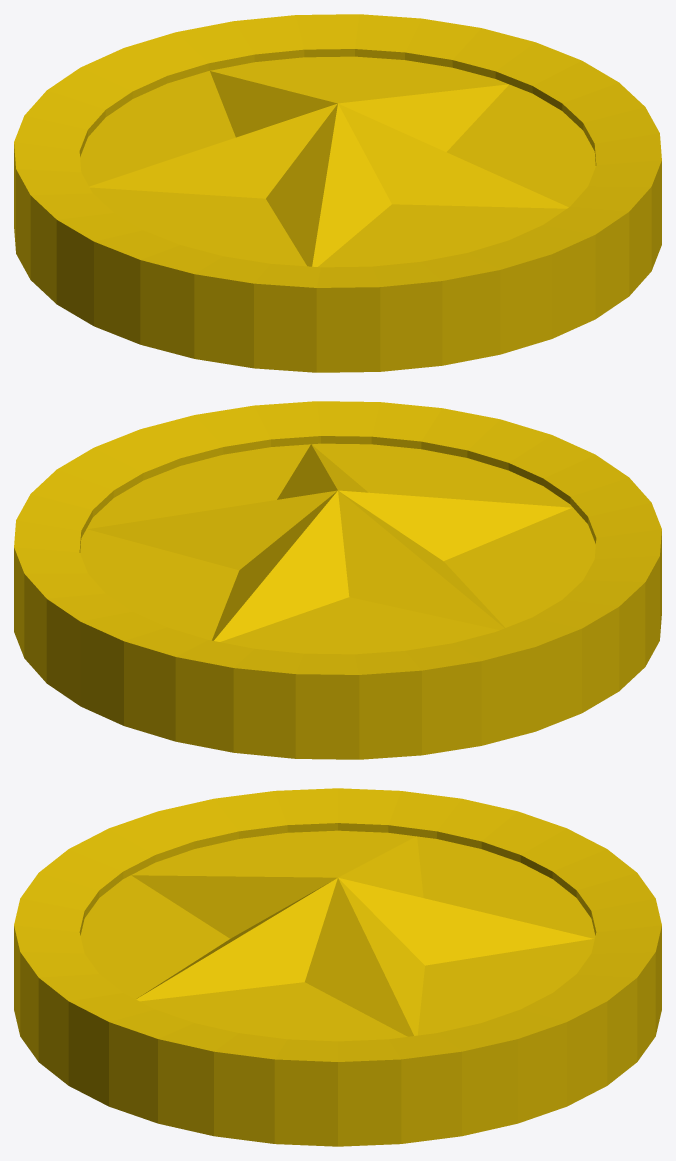
Rendered from Coin.fbx.
3 views of the same model, one above another, from view 1: azimuth 30°, elevation 25°; view 2: azimuth 150°, elevation 25°; view 3: azimuth 270°, elevation 25° (orthographic).
Parts seen in each view (by area): view 1: Circle; view 2: Circle; view 3: Circle.
Part boxes in pixels (x1,y1,x2,y2): Circle: (14,14,661,372); Circle: (14,401,661,759); Circle: (14,788,661,1146).
Size of the model in its own units: 1053 by 321 by 1053.
